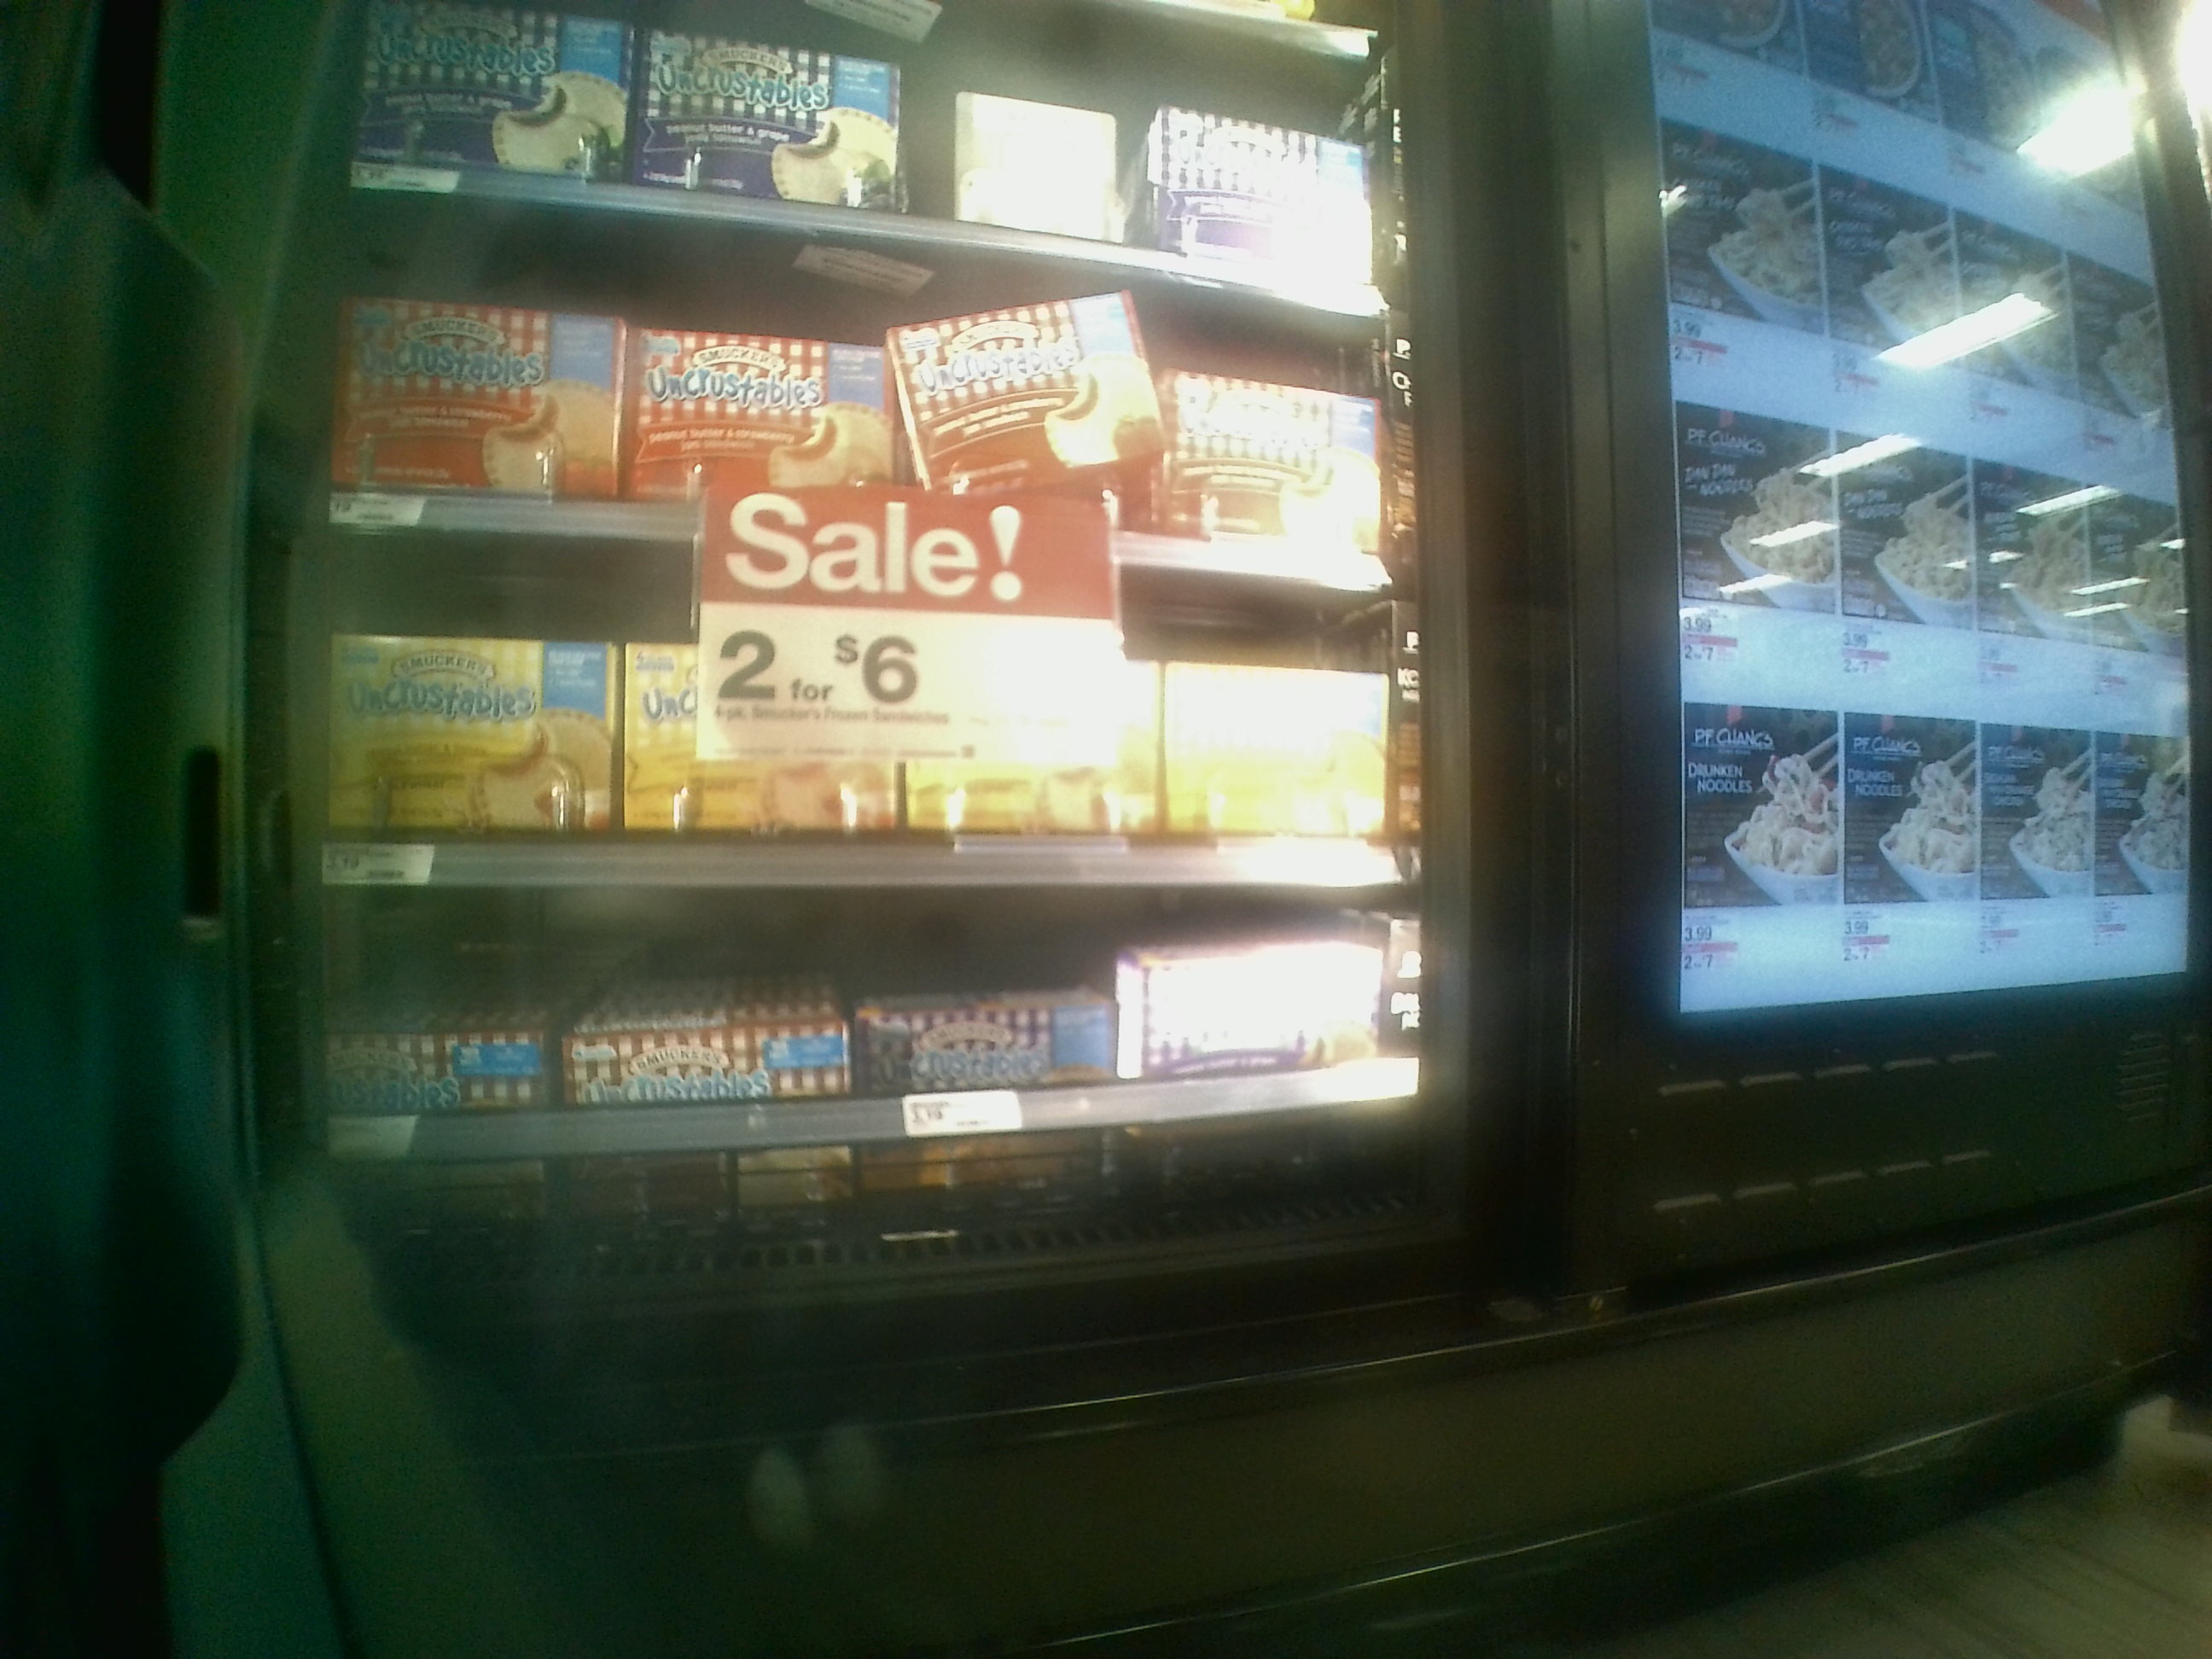shelf: (286, 889, 1432, 1276), (314, 204, 1395, 599), (284, 561, 1407, 897)
